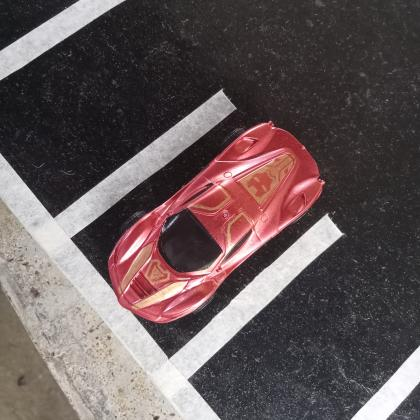Car: (108, 121, 327, 322)
